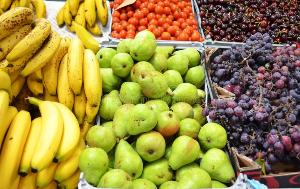banana: (0, 35, 98, 188), (46, 0, 110, 44), (28, 98, 63, 173)
grape: (218, 37, 300, 181)
grapes: (209, 99, 237, 120), (228, 111, 234, 116)
pear: (99, 37, 234, 189), (138, 71, 169, 98)
tomato: (112, 0, 202, 40), (186, 18, 193, 26)
